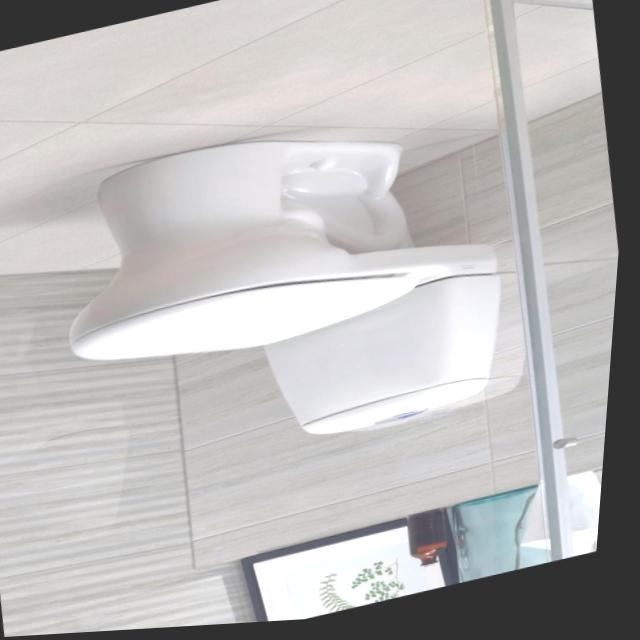toilet: (35, 86, 539, 501)
